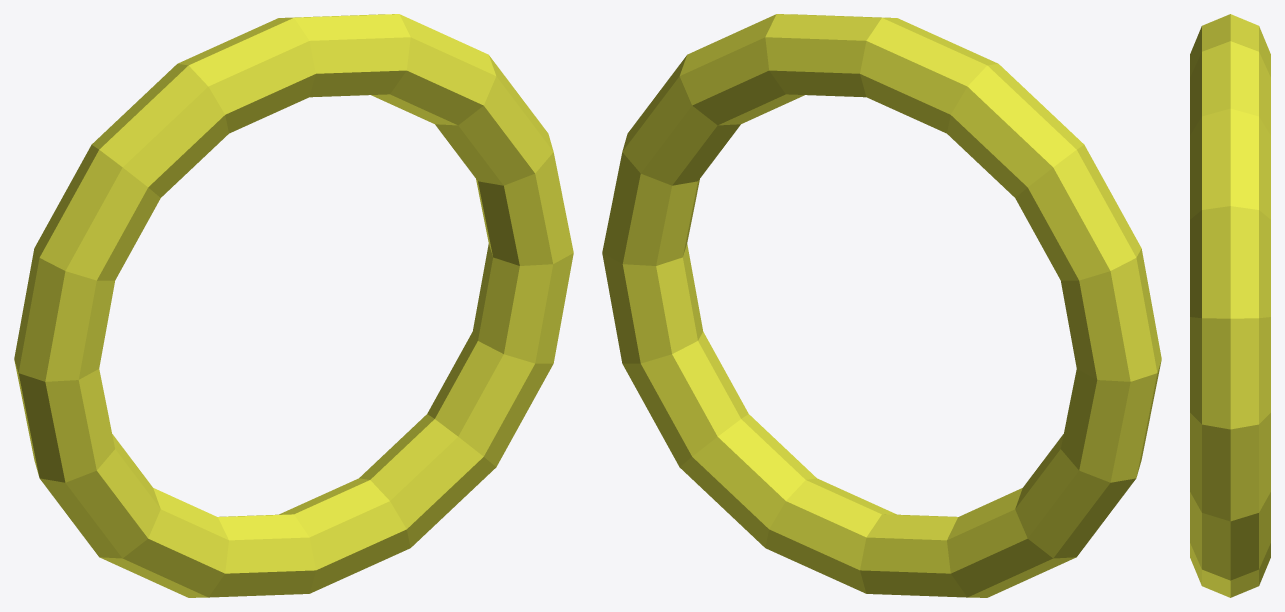
File: ring.glb
3 views of the same model, side by side, from view 1: azimuth 30°, elevation 25°; view 2: azimuth 150°, elevation 25°; view 3: azimuth 270°, elevation 25° (orthographic). The views are drawn at different scales.
Visible parts, largest first — view 1: TorusRing; view 2: TorusRing; view 3: TorusRing.
Boxes of the visible parts, x1,y1,x2,y2 form: TorusRing: [14, 14, 573, 597]; TorusRing: [602, 14, 1161, 597]; TorusRing: [1190, 14, 1270, 597].
Bounding box in the file's own units: 17.48 × 17.48 × 2.42.
